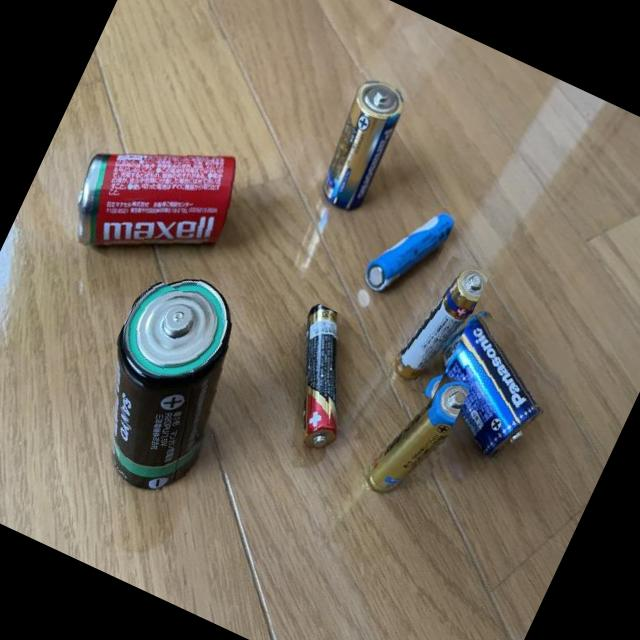Hazard: (62, 255, 271, 508), (49, 93, 254, 294), (404, 296, 574, 469), (254, 300, 384, 459), (301, 68, 419, 225), (355, 357, 471, 509), (384, 250, 490, 397), (357, 186, 458, 307)
